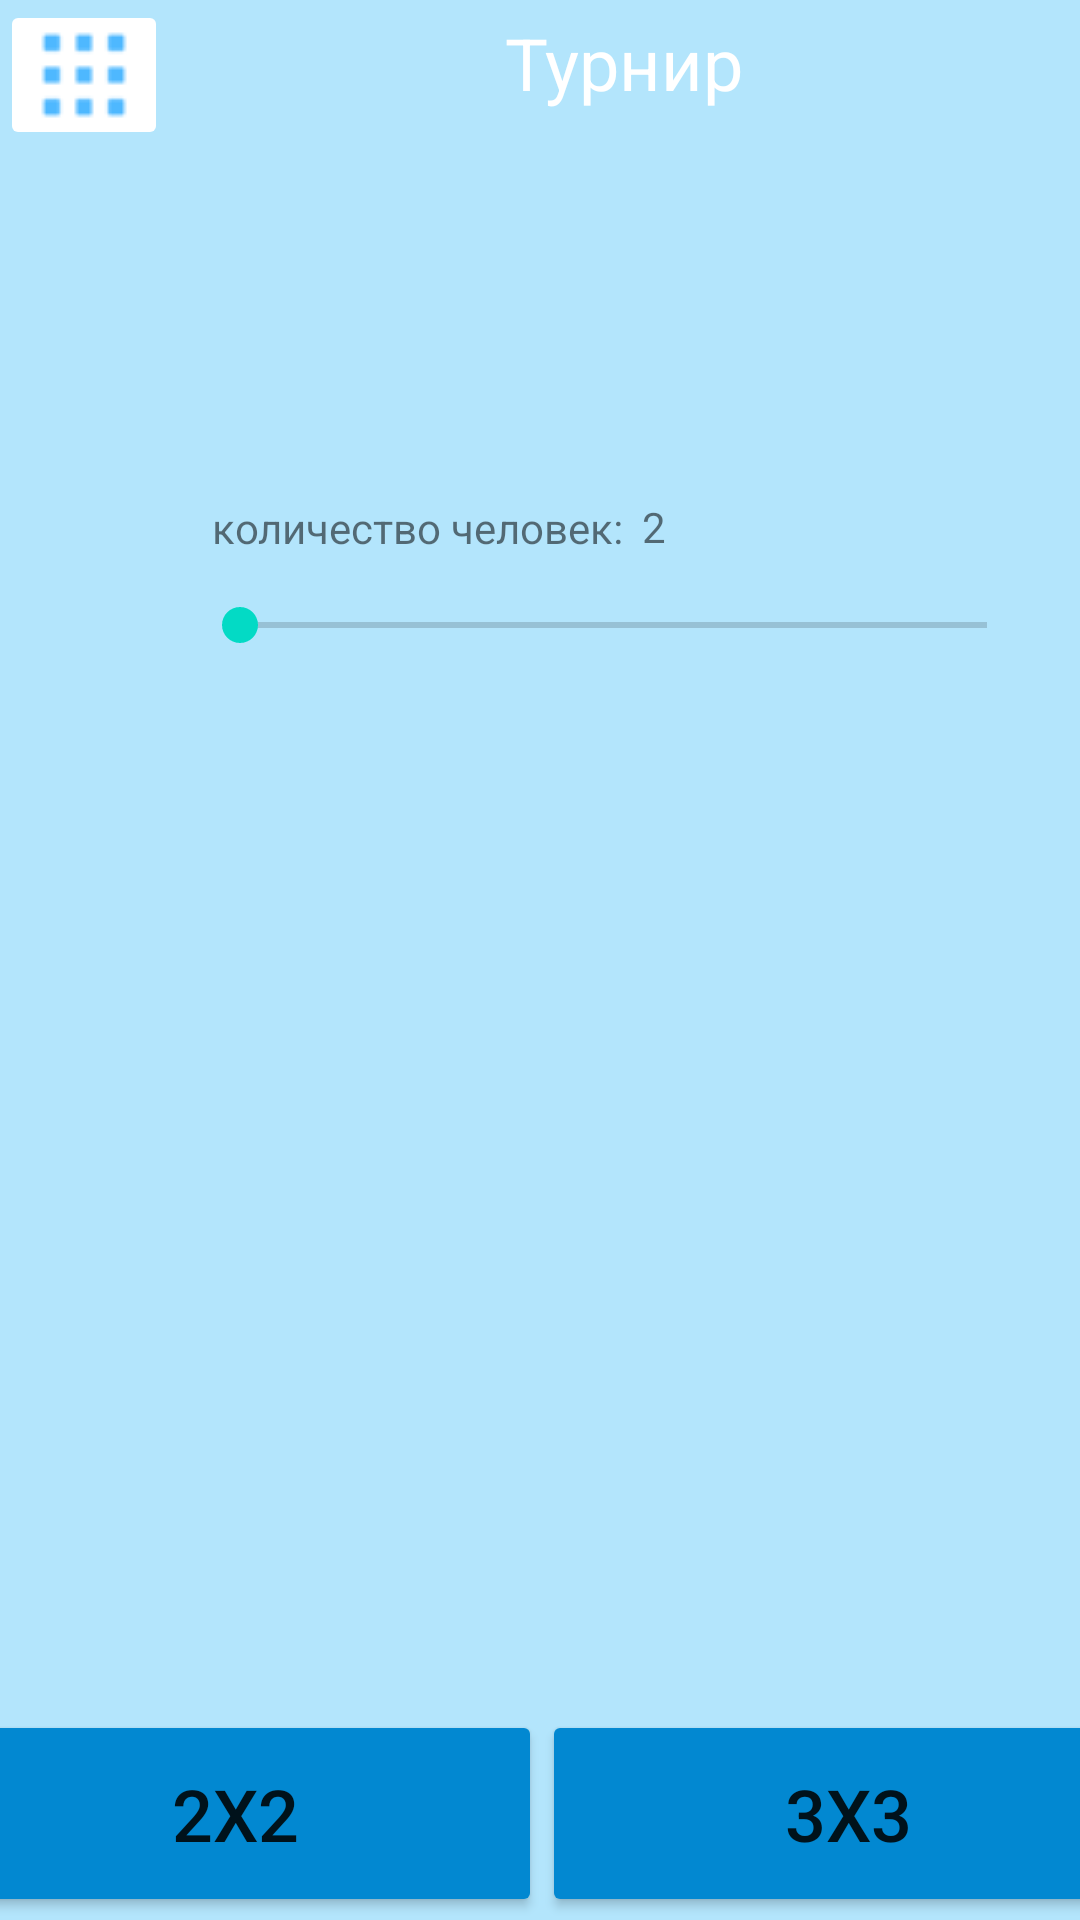

Icons on this 1080*1920 Android screen, each with the point to tap as point (x, y):
menu: point (84, 75)
